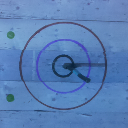Axe Tip: (68, 63, 80, 66)
